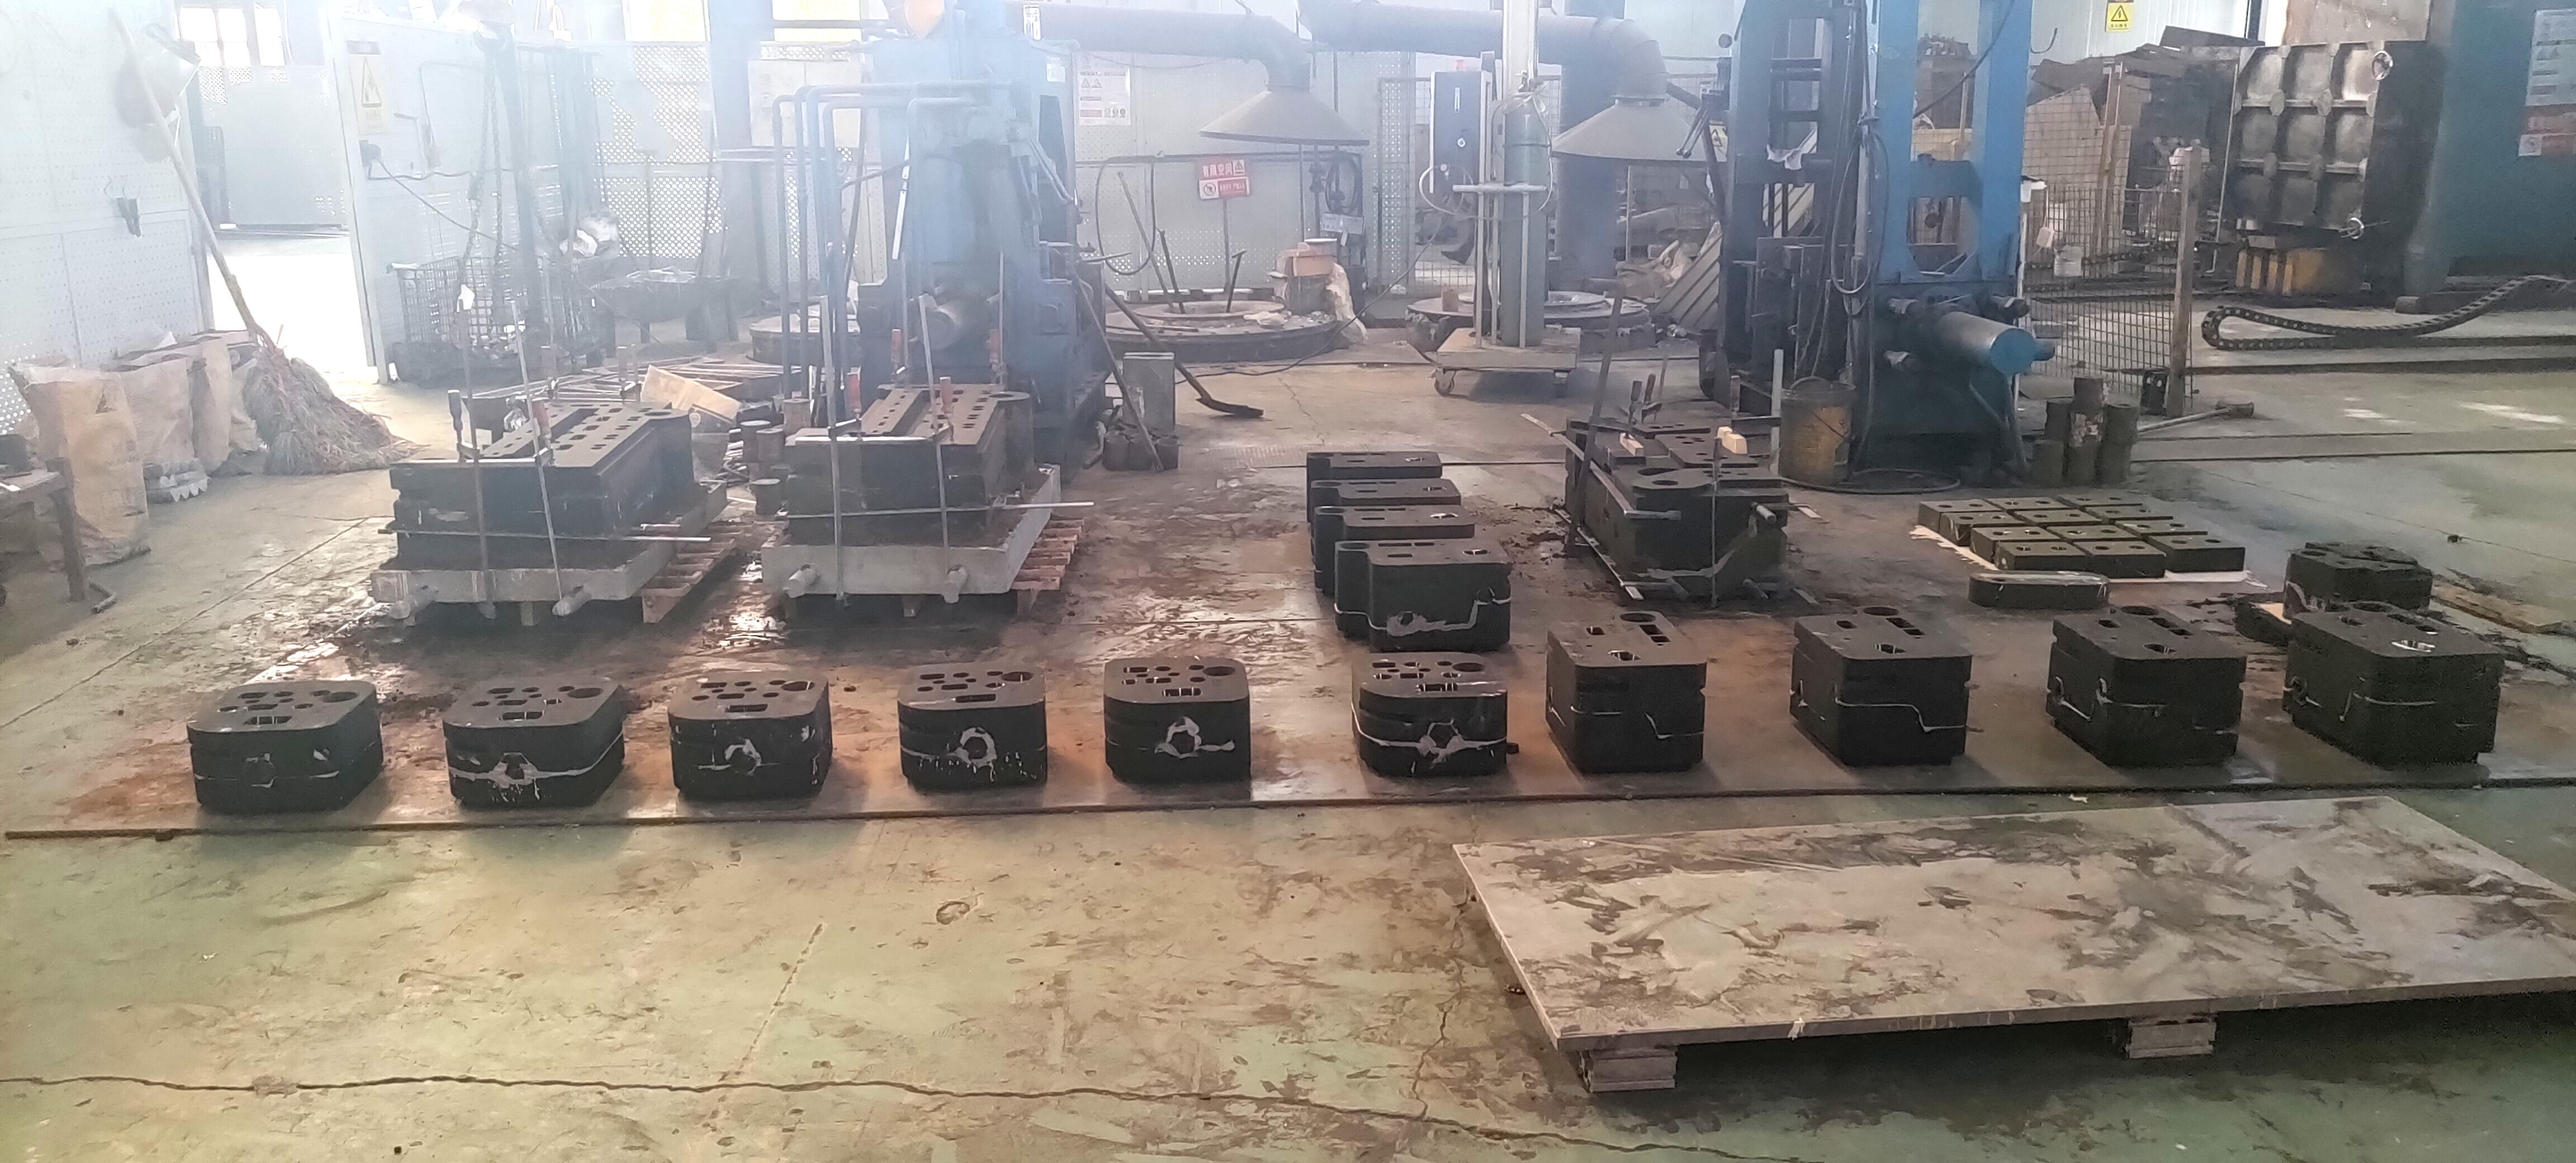pouring hole: (2351, 601, 2394, 613), (2121, 604, 2160, 616), (320, 692, 358, 703), (1001, 670, 1035, 682), (1201, 665, 1235, 677), (568, 688, 605, 698), (779, 682, 815, 692), (1620, 613, 1656, 623), (1863, 606, 1899, 616), (1452, 662, 1485, 672), (1341, 542, 1370, 550), (1318, 506, 1346, 514), (2300, 549, 2328, 557), (0, 432, 23, 442), (1157, 437, 1180, 445), (805, 434, 833, 440), (1651, 478, 1679, 485), (1129, 437, 1153, 444), (1130, 432, 1153, 439), (644, 412, 672, 417), (987, 393, 1015, 398), (1314, 481, 1342, 486), (419, 457, 445, 462), (1122, 427, 1142, 434), (1101, 434, 1125, 439), (1309, 452, 1334, 457), (1107, 439, 1129, 444), (2049, 545, 2067, 550), (1958, 516, 1975, 521), (2075, 496, 2091, 501), (2100, 529, 2116, 534), (2093, 545, 2109, 550), (2170, 539, 2187, 544), (2004, 501, 2019, 506), (2036, 499, 2050, 504), (2067, 513, 2081, 517), (2024, 531, 2039, 536), (2136, 524, 2150, 529), (2169, 522, 2183, 527), (2016, 547, 2031, 552), (2137, 508, 2150, 513), (1600, 417, 1618, 421), (2065, 531, 2083, 534), (2127, 545, 2146, 549), (1991, 514, 2003, 519), (1937, 504, 1953, 508), (2205, 539, 2221, 542), (1968, 503, 1983, 506), (2032, 514, 2047, 517), (2105, 509, 2119, 513), (1991, 531, 2006, 534), (2108, 496, 2121, 499)
